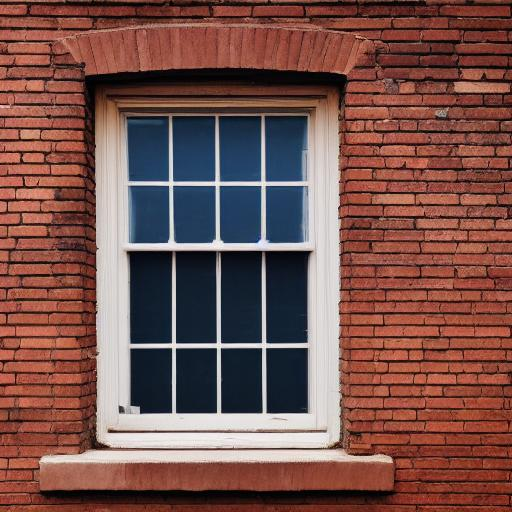Window: (39, 24, 397, 498)
